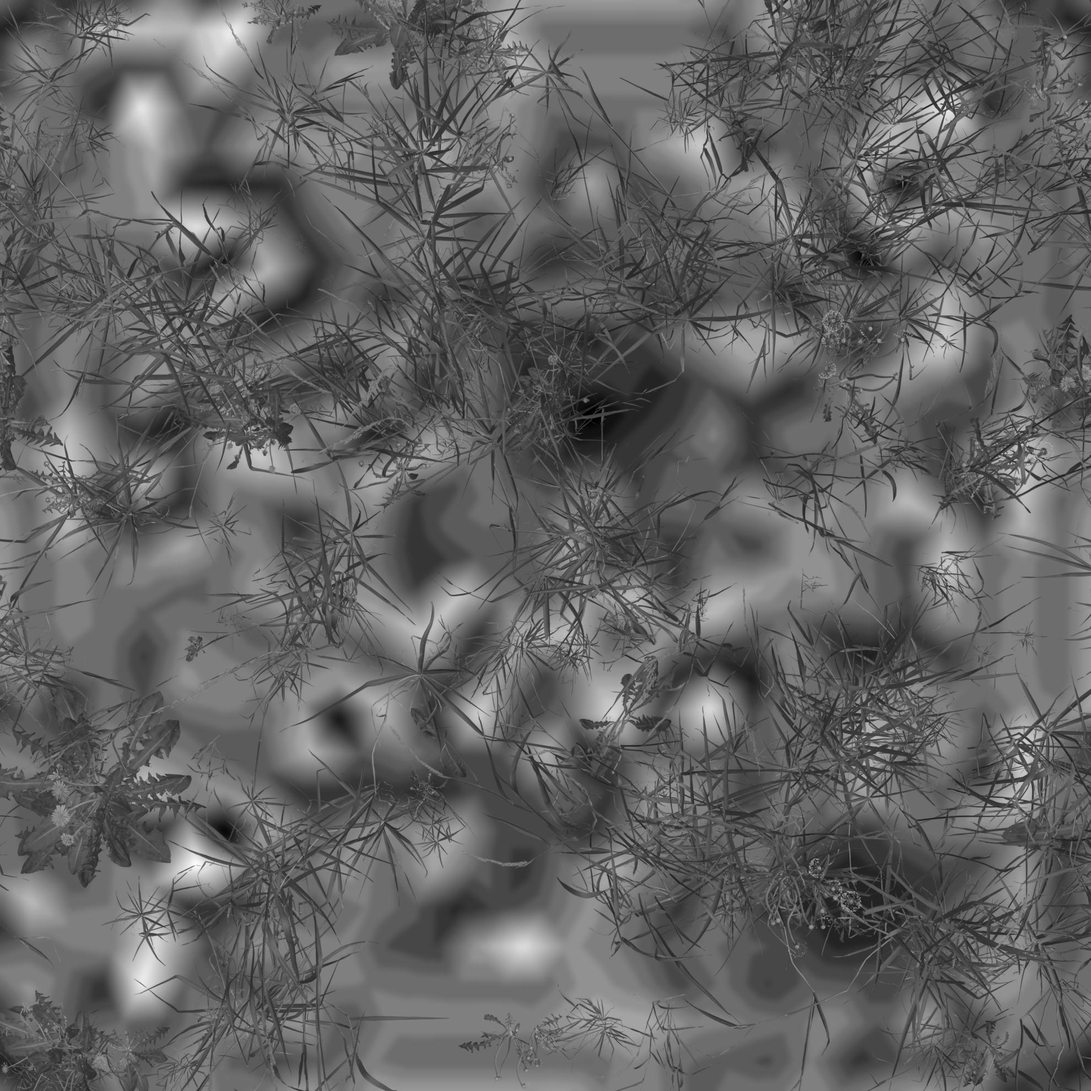landmine: (552, 381, 636, 458)
